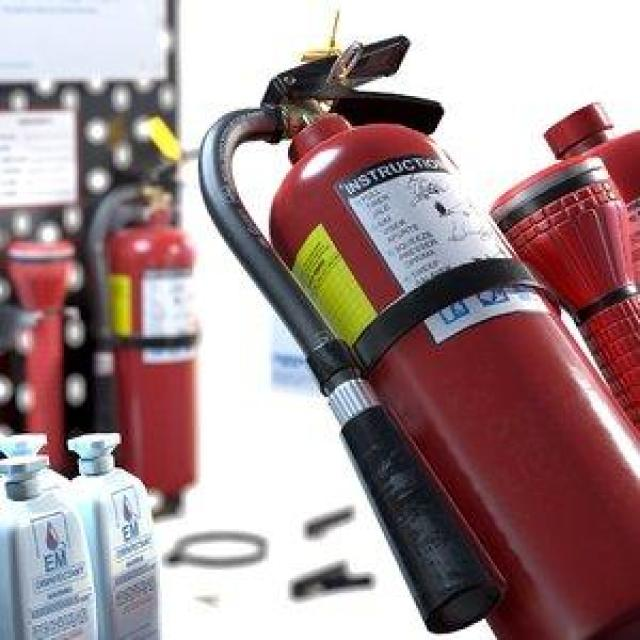fire_extinguisher: (188, 25, 638, 638), (85, 160, 209, 512)
